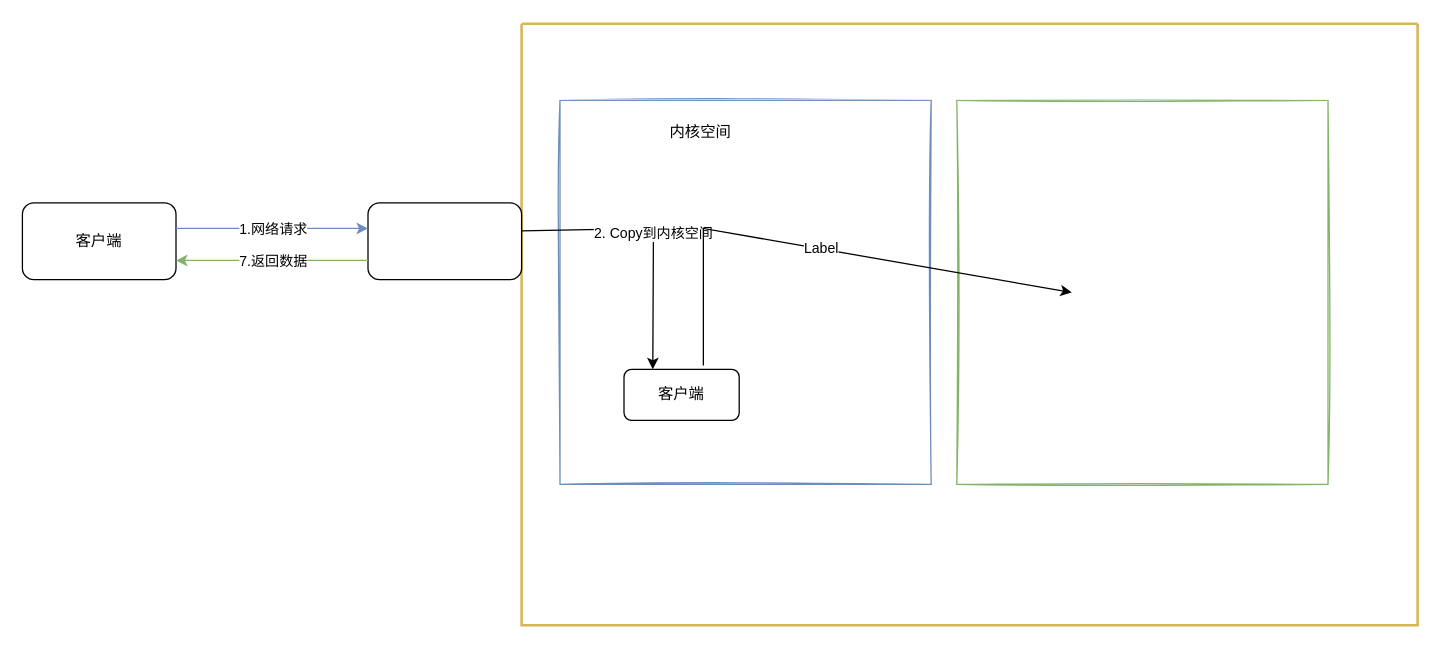
Image size: 1441x648. Some labels were removed from this diagram. Here are the shapes that lost their labels. From the top down, the centre of each, then its label:
At pixel 444 241: "TCP 连接".
At pixel 1142 291: "用户空间".
